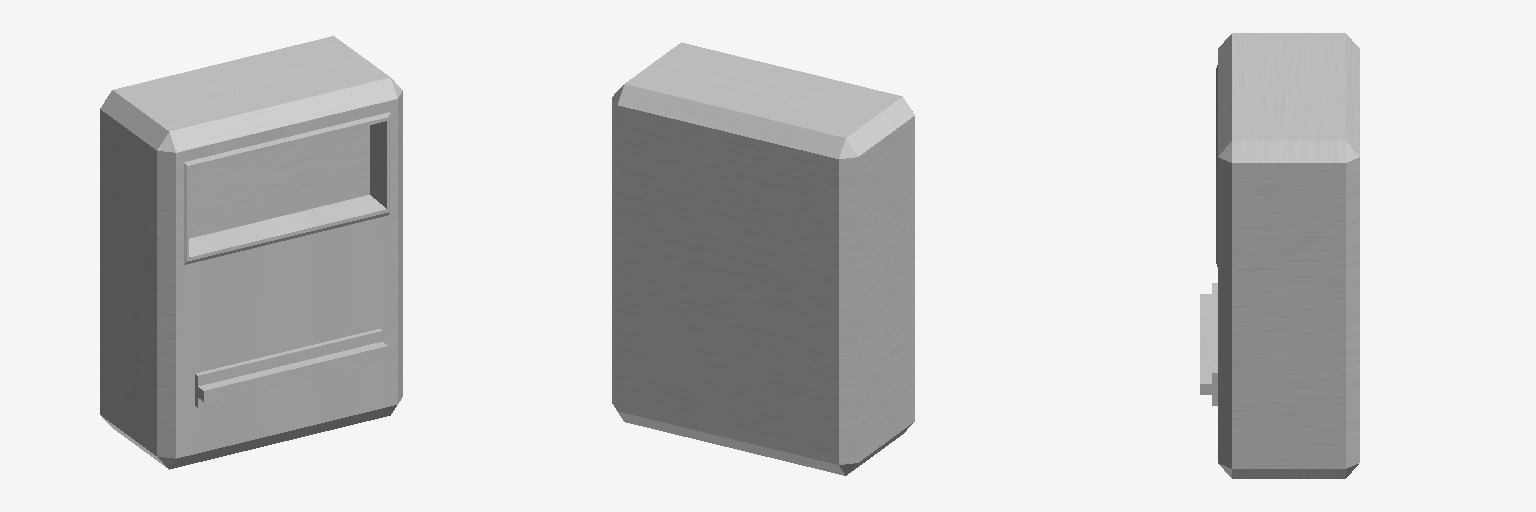
3 renders of one model, left to right at view 1: azimuth 30°, elevation 25°; view 2: azimuth 150°, elevation 25°; view 3: azimuth 270°, elevation 25°, orthographic.
Parts seen in each view (by area): view 1: shell, rail; view 2: shell; view 3: shell, rail.
Boxes of the visible parts, <box> form: shell: <box>100,36,402,469</box>; rail: <box>195,329,387,407</box>; shell: <box>612,42,914,475</box>; shell: <box>1216,33,1359,478</box>; rail: <box>1200,283,1217,405</box>.
Bounding box in the file's own units: 0.08 × 0.105 × 0.045.
Materials: 1 (1 with a texture image).